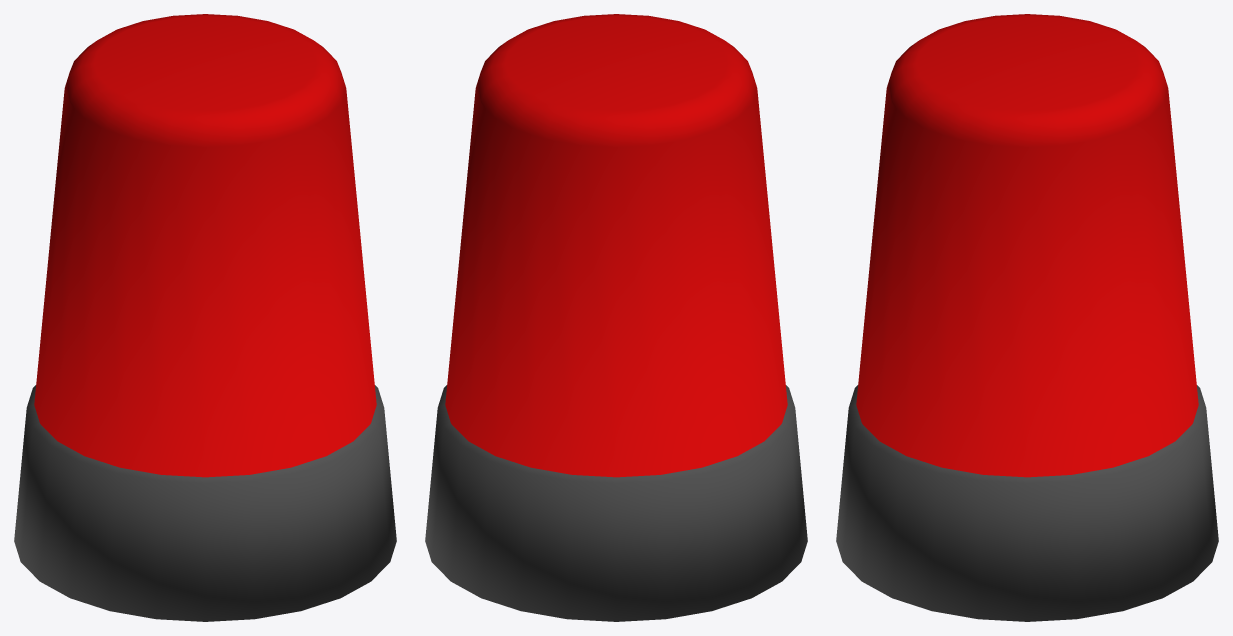
The model's file is Siren.fbx.
The picture shows the model from 3 angles, left to right: view 1: azimuth 30°, elevation 25°; view 2: azimuth 150°, elevation 25°; view 3: azimuth 270°, elevation 25°; orthographic projection.
Parts seen in each view (by area): view 1: Sairen; view 2: Sairen; view 3: Sairen.
Boxes of the visible parts, x1,y1,x2,y2 form: Sairen: (14,14,396,621); Sairen: (425,14,807,621); Sairen: (836,14,1218,621).
Size of the model in its own units: 14.62 by 20.12 by 14.62.
